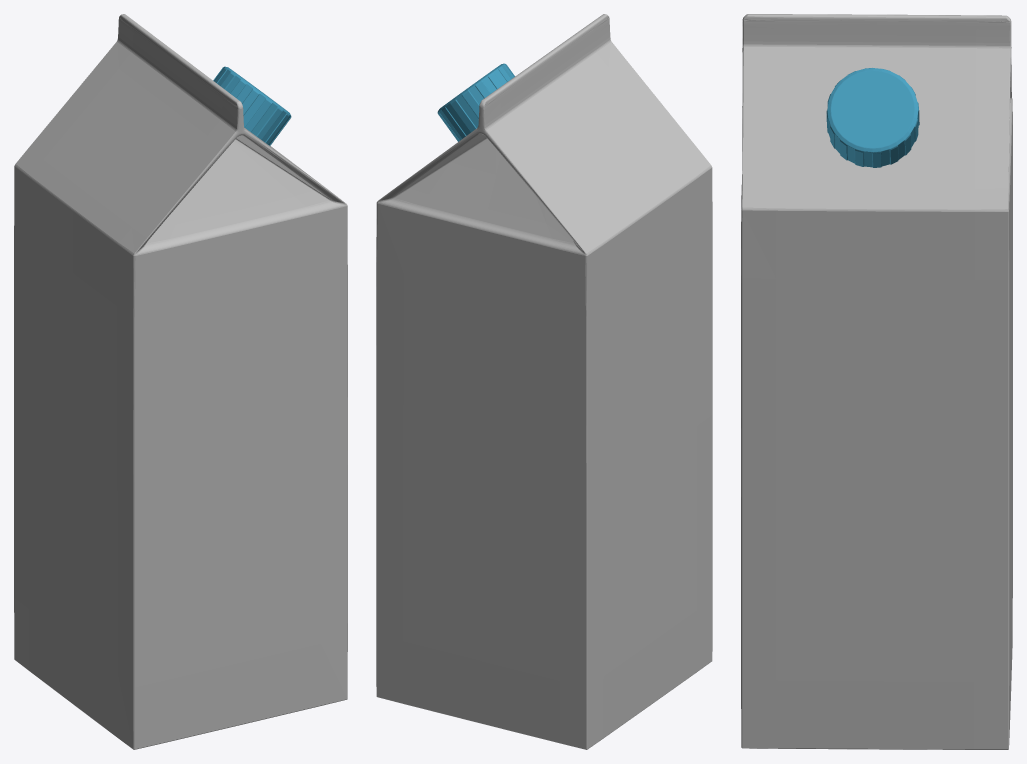
File: tetrapak.dae
3 renders of one model, left to right at view 1: azimuth 30°, elevation 25°; view 2: azimuth 150°, elevation 25°; view 3: azimuth 270°, elevation 25°, orthographic. The views are drawn at different scales.
Parts seen in each view (by area): view 1: cap; view 2: cap; view 3: cap.
Part boxes in pixels (x1=…): cap: x1=14, y1=14, x2=347, y2=749; cap: x1=376, y1=14, x2=712, y2=749; cap: x1=741, y1=14, x2=1012, y2=749.
Bounding box in the file's own units: 0.0867 × 0.0867 × 0.2386.
